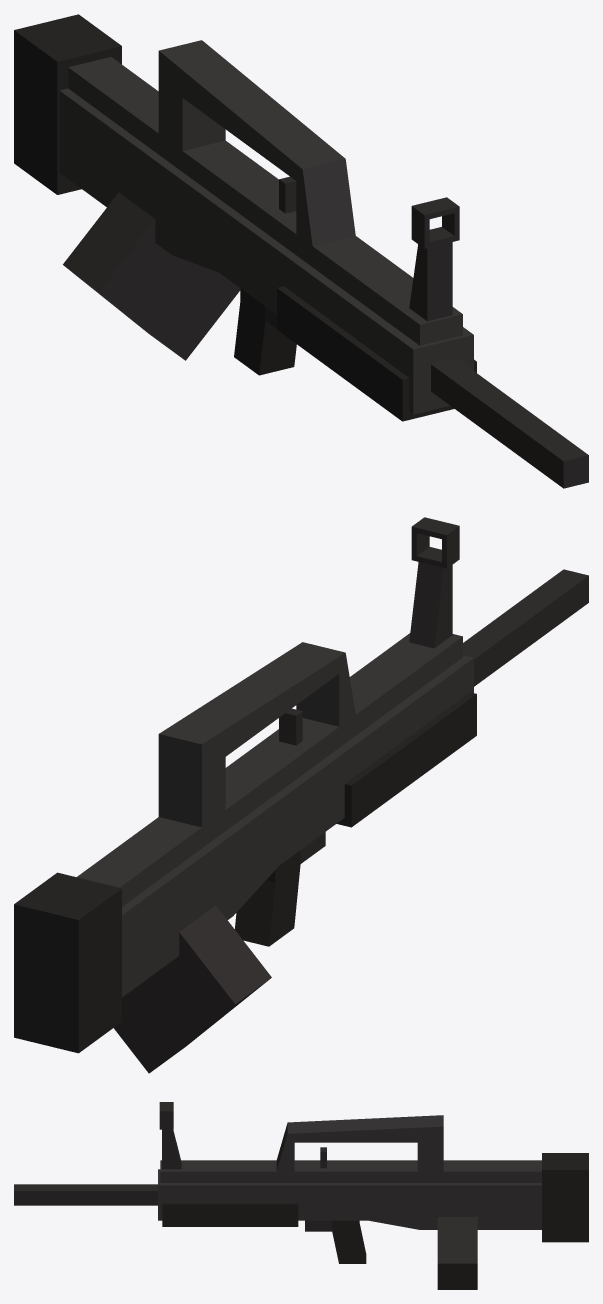
Rendered from LMGQ95.FBX.
3 renders of one model, top to bottom at view 1: azimuth 30°, elevation 25°; view 2: azimuth 150°, elevation 25°; view 3: azimuth 270°, elevation 25°, orthographic. The views are drawn at different scales.
Visible parts, largest first — view 1: LMGQ95, LMGQ95_mag, LMGQ95_sights; view 2: LMGQ95, LMGQ95_mag, LMGQ95_sights; view 3: LMGQ95, LMGQ95_mag, LMGQ95_sights.
Part boxes in pixels (left/top/right/bottom): LMGQ95: left=14, top=14, right=588, bottom=488; LMGQ95_mag: left=63, top=192, right=240, bottom=360; LMGQ95_sights: left=409, top=197, right=459, bottom=321; LMGQ95: left=14, top=569, right=588, bottom=1053; LMGQ95_mag: left=114, top=905, right=271, bottom=1073; LMGQ95_sights: left=409, top=517, right=459, bottom=648; LMGQ95: left=14, top=1115, right=588, bottom=1263; LMGQ95_mag: left=437, top=1217, right=477, bottom=1289; LMGQ95_sights: left=159, top=1102, right=181, bottom=1169.
Size of the model in its own units: 33.97 by 181 by 63.46.
